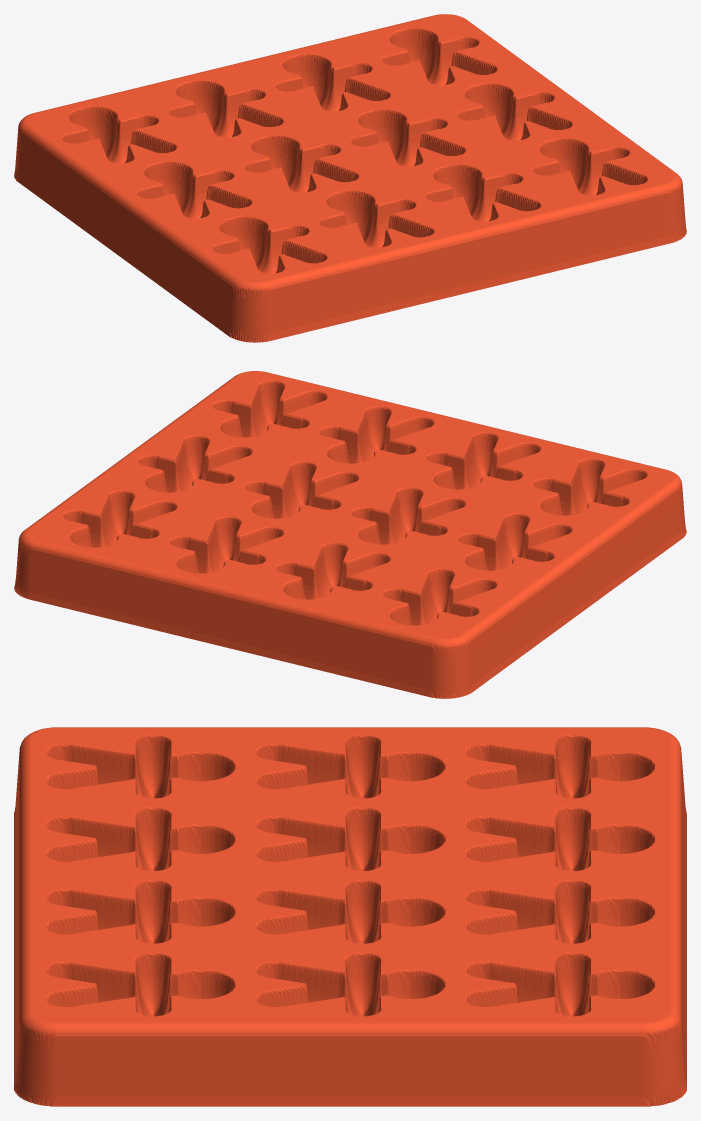
File: mold.glb
3 renders of one model, top to bottom at view 1: azimuth 30°, elevation 25°; view 2: azimuth 150°, elevation 25°; view 3: azimuth 270°, elevation 25°, orthographic. The views are drawn at different scales.
Parts seen in each view (by area): view 1: geometry_0; view 2: geometry_0; view 3: geometry_0.
Part boxes in pixels (box(x1,y1,x2,y2)): geometry_0: box(14, 14, 686, 342); geometry_0: box(14, 371, 686, 698); geometry_0: box(14, 727, 686, 1106).
Bounding box in the file's own units: 0.1509 × 0.0175 × 0.1389.
